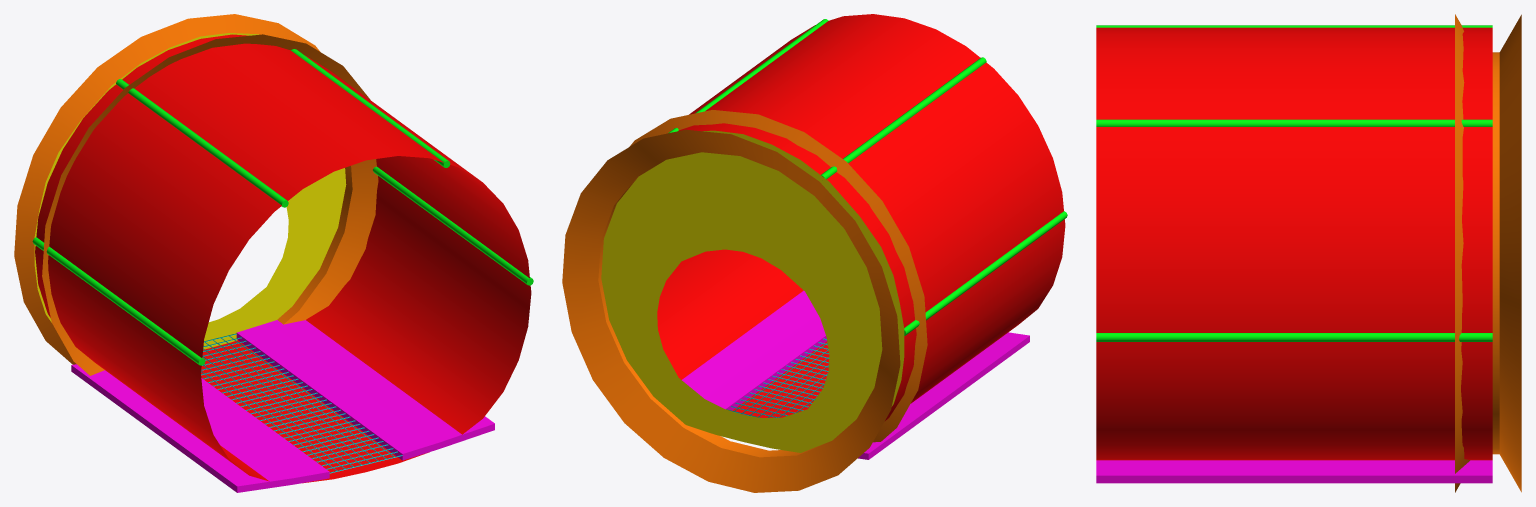
3 renders of one model, left to right at view 1: azimuth 30°, elevation 25°; view 2: azimuth 150°, elevation 25°; view 3: azimuth 270°, elevation 25°, orthographic. The views are drawn at different scales.
Parts seen in each view (by area): view 1: Tube001; view 2: Tube001; view 3: Tube001.
Boxes of the visible parts, bbox=[...] form: Tube001: bbox=[14, 14, 533, 492]; Tube001: bbox=[562, 14, 1067, 492]; Tube001: bbox=[1096, 14, 1521, 492].
Size of the model in its own units: 284 by 284 by 252.
